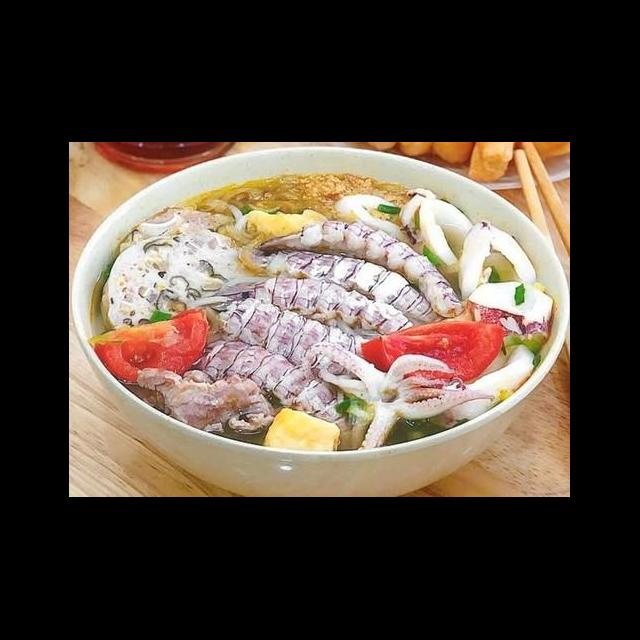bun hai san: (104, 168, 550, 487)
dau hu: (260, 404, 344, 466)
muc: (300, 339, 498, 456), (426, 340, 542, 430), (452, 216, 542, 306), (332, 190, 434, 258), (464, 278, 556, 350), (414, 195, 486, 278)
thit heo: (132, 362, 262, 436)
tom tit: (250, 218, 468, 322), (192, 336, 356, 439), (248, 245, 450, 328), (206, 294, 384, 384), (236, 268, 418, 338)
